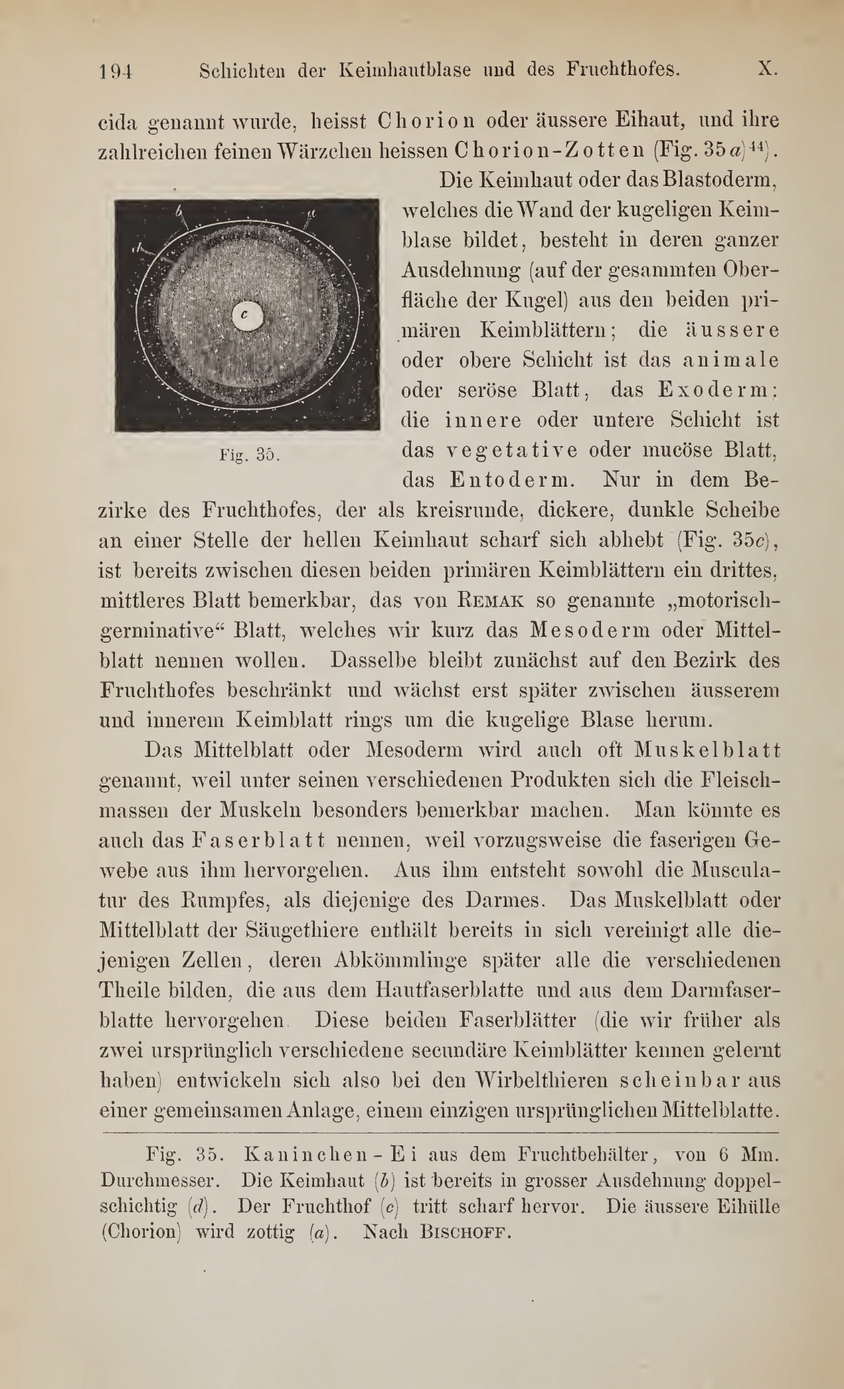GraphicZone_Description: (207, 442, 286, 467)
GraphicZone_Illustration: (108, 193, 387, 437)
MainZone: (90, 107, 796, 1127)
MarginTextZone note: (88, 1135, 796, 1252)
NumberingZone chapter: (742, 48, 795, 85)
NumberingZone_page: (89, 51, 143, 90)
RunningTitleZone: (191, 55, 689, 87)
